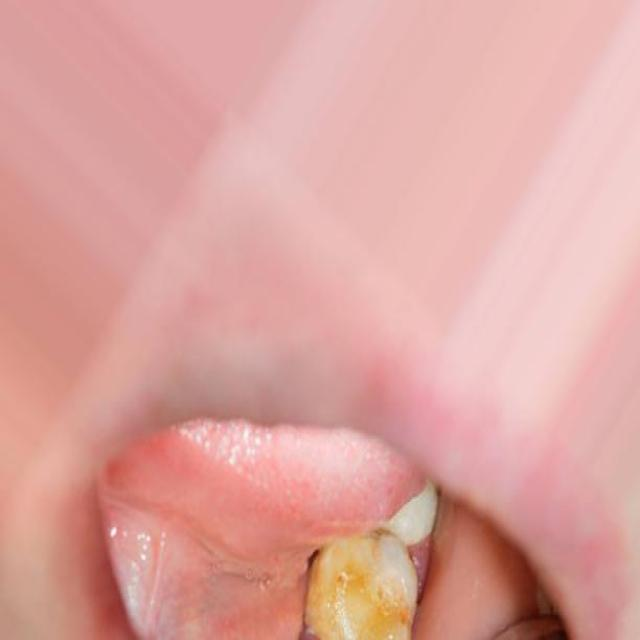caries: (304, 514, 426, 640)
